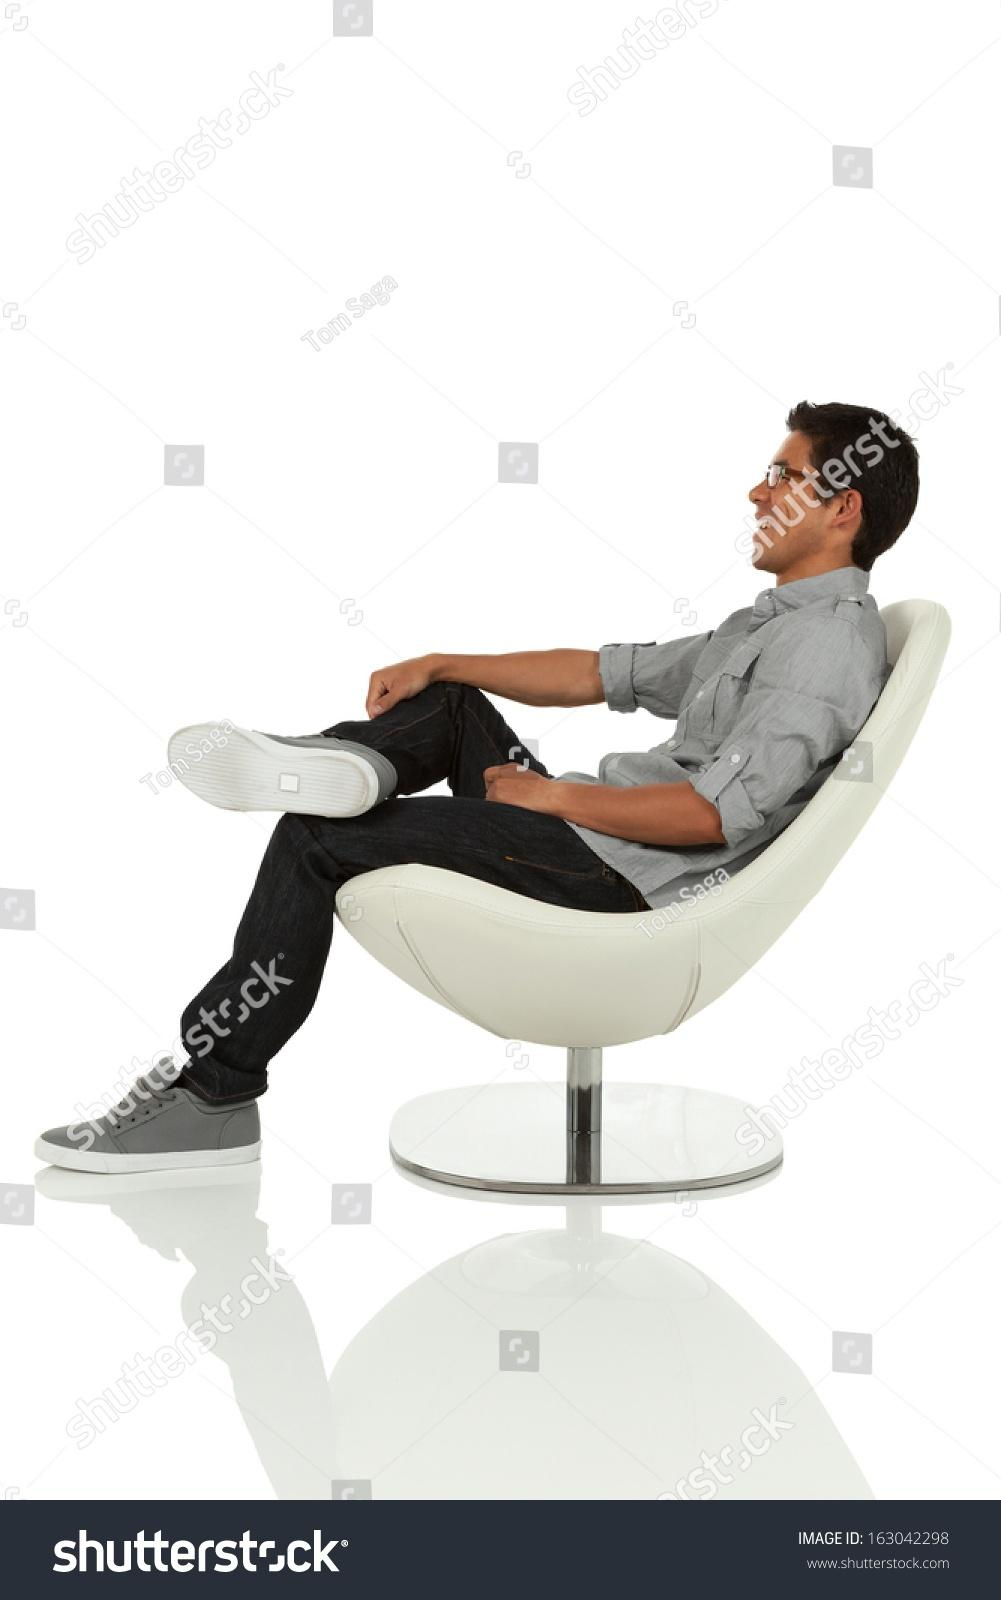bad-pose: (0, 0, 1001, 1600)
